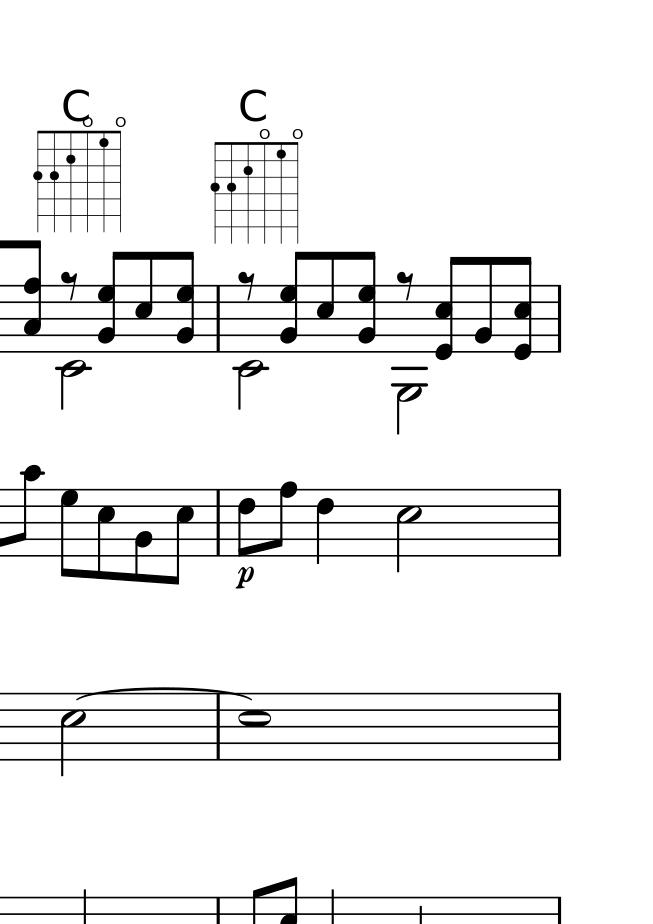1_5: (237, 691, 271, 765)
2_-2: (57, 284, 87, 413), (236, 283, 265, 413)
2_-5: (396, 283, 423, 438)
2_5: (59, 691, 88, 777), (394, 488, 423, 570)
4_6: (316, 487, 336, 568)
8_0_5: (433, 256, 462, 361), (510, 255, 532, 362)
8_10: (15, 464, 42, 560)
8_2: (131, 484, 154, 587), (474, 254, 497, 355)
8_2_7: (96, 249, 124, 354), (278, 249, 306, 354), (174, 250, 196, 353), (357, 252, 379, 355)
8_3_8: (24, 239, 42, 356)
8_5: (315, 249, 341, 354), (132, 249, 157, 355), (168, 489, 195, 587), (95, 488, 116, 583)
8_6: (234, 488, 258, 561)
8_7: (57, 488, 79, 577)
8_8: (273, 479, 299, 558)
Fretboard: (31, 118, 129, 237), (210, 127, 307, 246)
Rests8: (396, 264, 415, 304), (60, 268, 80, 302), (238, 268, 257, 303)
Single_barline: (210, 285, 229, 352), (208, 489, 227, 556), (210, 693, 228, 761), (549, 285, 567, 352), (548, 489, 566, 556), (550, 693, 567, 760)
Slur: (75, 687, 257, 702)
p: (234, 565, 254, 591)
